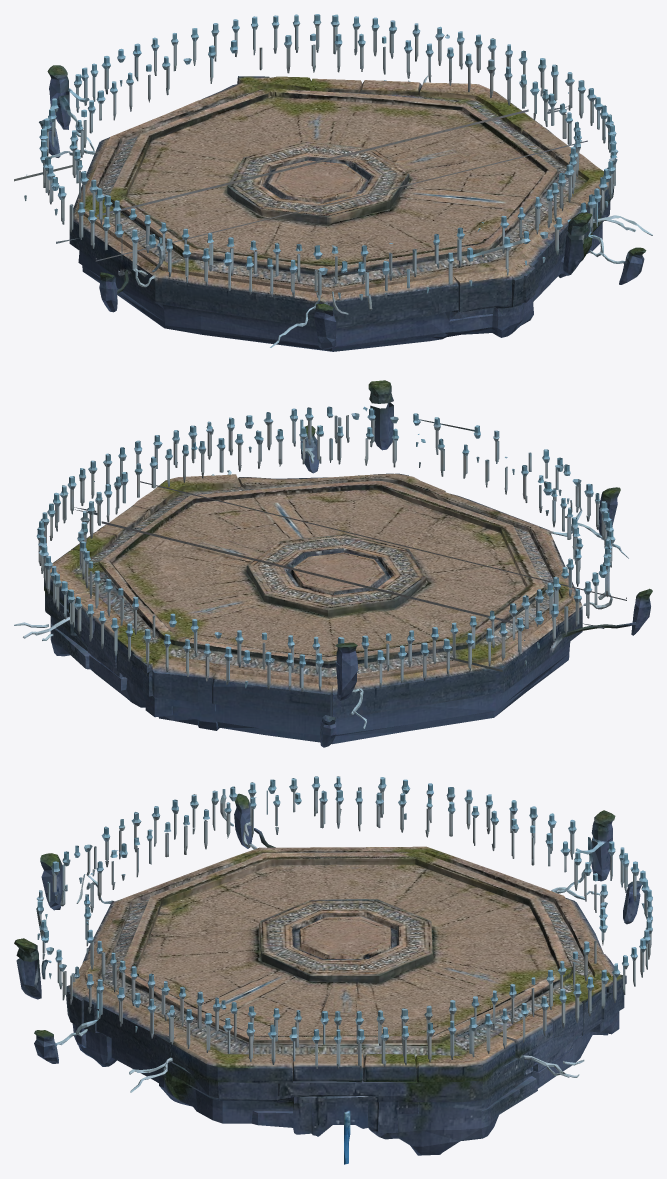
File: platform_01.glb
3 views of the same model, one above another, from view 1: azimuth 30°, elevation 25°; view 2: azimuth 150°, elevation 25°; view 3: azimuth 270°, elevation 25° (orthographic). The views are drawn at different scales.
Visible parts, largest first — view 1: tripo_node_85668046-a637-49d1-883a-9ceeb5e5c4e2; view 2: tripo_node_85668046-a637-49d1-883a-9ceeb5e5c4e2; view 3: tripo_node_85668046-a637-49d1-883a-9ceeb5e5c4e2.
Boxes of the visible parts, x1,y1,x2,y2 form: tripo_node_85668046-a637-49d1-883a-9ceeb5e5c4e2: (14,14,652,351); tripo_node_85668046-a637-49d1-883a-9ceeb5e5c4e2: (14,380,652,747); tripo_node_85668046-a637-49d1-883a-9ceeb5e5c4e2: (14,776,652,1164).
Size of the model in its own units: 0.9647 by 0.2729 by 0.9684.
1 material, 1 textured.
